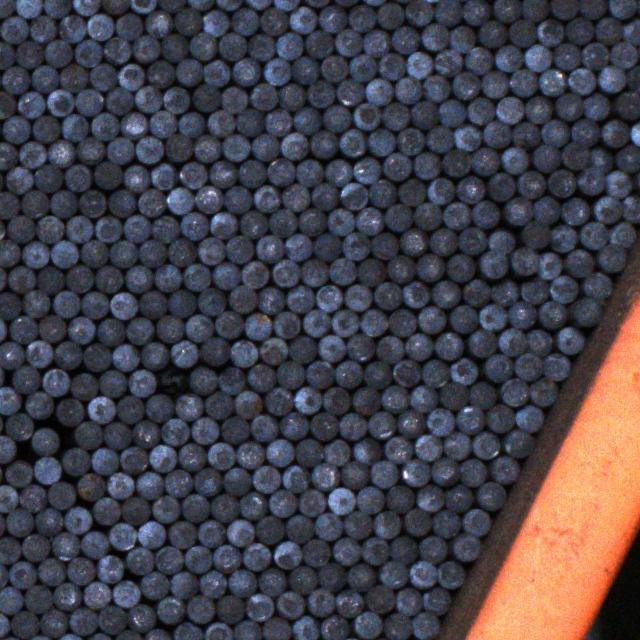tool: (569, 298, 602, 327), (199, 336, 228, 365), (504, 430, 534, 458), (366, 585, 395, 613), (487, 172, 515, 201), (597, 244, 626, 272), (439, 380, 468, 408), (431, 280, 460, 308), (101, 421, 130, 449), (479, 250, 508, 278), (128, 368, 156, 397), (560, 142, 589, 170), (378, 561, 408, 588), (134, 136, 162, 164), (256, 516, 284, 544), (361, 535, 389, 563), (23, 586, 51, 614), (549, 274, 577, 302), (342, 512, 370, 540), (501, 378, 529, 406), (126, 603, 154, 631), (276, 592, 304, 620), (280, 182, 308, 210), (433, 509, 461, 537), (412, 202, 440, 230), (248, 362, 276, 390), (289, 566, 317, 594), (509, 302, 537, 330), (212, 545, 240, 573), (448, 304, 476, 332), (486, 405, 514, 433), (346, 563, 374, 591), (514, 352, 542, 380), (478, 304, 506, 332), (477, 482, 505, 510), (54, 341, 82, 369), (134, 470, 162, 498), (445, 253, 473, 281), (83, 343, 111, 371), (87, 394, 115, 422), (323, 103, 351, 131), (422, 586, 450, 614), (216, 594, 244, 622), (160, 416, 188, 444), (116, 396, 144, 424), (166, 238, 194, 266), (238, 210, 266, 238), (284, 514, 312, 542), (432, 456, 460, 484), (380, 101, 408, 129), (384, 484, 412, 512), (272, 542, 300, 570), (22, 532, 50, 560), (196, 237, 224, 265), (209, 494, 237, 522), (122, 496, 150, 524), (592, 195, 620, 223), (48, 482, 76, 510), (264, 388, 292, 416), (306, 360, 334, 388), (138, 289, 166, 317), (38, 608, 66, 636), (8, 315, 36, 343), (7, 411, 35, 439), (468, 330, 496, 358), (176, 442, 204, 470), (221, 415, 249, 443), (189, 365, 217, 393), (146, 392, 174, 420), (13, 365, 41, 393), (498, 328, 526, 356), (150, 216, 178, 244), (63, 506, 91, 534), (602, 118, 630, 146), (521, 220, 549, 248), (31, 428, 59, 456), (529, 377, 557, 405), (483, 353, 511, 381), (512, 121, 540, 149), (352, 612, 381, 639), (456, 405, 483, 434), (489, 456, 518, 483), (278, 412, 307, 439), (504, 198, 533, 225), (98, 604, 125, 633), (324, 387, 351, 415), (334, 359, 361, 387), (314, 512, 341, 540), (141, 572, 169, 599), (382, 437, 410, 464), (9, 266, 36, 294), (228, 568, 255, 596), (412, 613, 440, 640), (457, 228, 485, 255), (251, 83, 278, 111), (91, 113, 118, 141), (305, 29, 332, 57), (258, 569, 286, 596), (242, 542, 269, 570), (435, 48, 462, 76), (472, 430, 499, 458), (167, 521, 195, 548), (463, 509, 491, 536), (38, 558, 65, 586), (276, 361, 303, 389), (362, 360, 389, 388), (556, 326, 584, 353), (196, 184, 223, 212), (374, 281, 401, 309), (232, 58, 259, 86), (183, 264, 210, 292), (581, 220, 608, 248), (238, 491, 265, 519), (427, 407, 454, 435), (148, 444, 175, 472), (112, 581, 140, 608), (50, 190, 77, 218), (184, 546, 212, 573), (0, 16, 27, 44), (409, 560, 436, 588), (5, 460, 32, 488), (452, 533, 480, 560), (22, 288, 49, 316), (568, 68, 596, 95), (472, 201, 499, 229), (335, 590, 362, 618), (64, 216, 92, 243), (163, 469, 190, 497), (382, 154, 409, 182), (541, 118, 569, 145), (471, 146, 498, 174), (30, 64, 57, 92), (296, 440, 323, 468), (368, 180, 396, 207), (208, 160, 236, 187), (266, 440, 293, 468), (340, 182, 368, 209), (319, 562, 346, 590), (224, 184, 251, 212), (392, 25, 419, 53), (235, 441, 263, 468), (360, 309, 388, 336), (449, 356, 476, 384), (279, 132, 306, 160), (236, 108, 263, 136), (564, 16, 591, 44), (306, 80, 333, 108), (15, 41, 42, 69), (422, 359, 450, 386), (75, 38, 102, 66), (246, 312, 273, 340), (102, 36, 129, 64), (240, 261, 267, 289), (79, 189, 106, 217), (78, 472, 105, 500), (560, 198, 588, 225), (226, 236, 254, 263), (230, 284, 257, 312), (185, 594, 212, 622), (317, 334, 344, 362), (310, 411, 337, 439), (264, 108, 291, 136), (230, 339, 258, 366), (414, 434, 441, 462), (346, 334, 373, 362), (456, 175, 484, 202), (391, 535, 418, 563), (468, 381, 495, 409), (564, 249, 592, 276), (231, 8, 258, 36), (155, 265, 182, 293), (192, 84, 220, 111), (197, 287, 224, 315), (188, 32, 216, 59), (223, 466, 250, 494), (260, 6, 287, 34), (310, 130, 337, 158), (370, 460, 398, 487), (119, 447, 147, 474), (73, 421, 101, 448), (597, 64, 624, 92), (444, 484, 471, 512), (206, 442, 234, 469), (191, 415, 218, 443), (182, 495, 209, 523), (298, 207, 326, 234), (52, 531, 79, 559), (155, 546, 182, 574), (66, 556, 93, 584), (6, 510, 33, 538), (319, 6, 347, 33), (438, 559, 465, 587), (594, 15, 621, 43), (388, 309, 415, 337), (173, 8, 200, 36), (582, 93, 610, 120), (66, 266, 93, 294), (537, 301, 564, 329), (91, 446, 118, 474), (57, 397, 84, 425), (193, 468, 220, 496), (399, 228, 426, 256), (541, 353, 569, 380), (62, 446, 89, 474), (204, 392, 232, 419), (8, 215, 36, 242), (361, 28, 388, 56), (173, 394, 201, 421), (277, 83, 304, 111), (458, 458, 485, 486), (216, 311, 244, 338), (386, 254, 413, 282), (354, 206, 381, 234), (549, 223, 576, 251), (19, 484, 46, 512), (313, 234, 340, 262), (170, 340, 197, 368), (98, 369, 125, 397), (234, 390, 261, 418), (112, 344, 140, 371), (186, 312, 213, 340), (108, 522, 136, 549), (410, 101, 437, 129), (246, 32, 274, 59), (398, 177, 426, 204), (80, 529, 107, 557), (350, 386, 378, 413), (9, 611, 36, 639), (140, 342, 167, 370), (442, 148, 470, 175), (168, 290, 195, 318), (578, 166, 605, 194), (614, 90, 640, 119), (497, 97, 524, 124), (310, 463, 337, 490), (508, 19, 535, 46), (375, 337, 402, 364), (120, 111, 147, 138), (131, 421, 158, 448), (253, 466, 280, 493), (152, 495, 179, 522), (321, 56, 348, 83), (285, 234, 312, 261), (268, 208, 295, 235), (256, 234, 283, 261), (464, 46, 491, 73), (479, 21, 506, 48), (218, 33, 245, 60), (222, 134, 249, 161), (429, 229, 456, 256), (31, 115, 58, 142), (245, 593, 272, 620), (509, 69, 536, 96), (76, 137, 103, 164), (501, 146, 528, 173), (206, 109, 233, 136), (95, 162, 122, 189), (415, 253, 442, 280), (19, 141, 46, 168), (45, 41, 72, 68), (517, 171, 544, 198), (89, 64, 116, 91), (404, 334, 431, 361), (396, 587, 423, 614), (332, 309, 359, 336), (227, 520, 254, 547), (383, 203, 410, 230), (263, 58, 290, 85), (341, 461, 368, 488), (383, 613, 410, 640), (581, 41, 608, 68), (443, 202, 470, 229), (111, 292, 138, 319), (301, 260, 328, 287), (348, 54, 375, 81), (47, 89, 74, 116), (133, 87, 160, 114), (435, 333, 462, 360), (34, 165, 61, 192), (275, 31, 302, 58), (423, 74, 450, 101), (178, 161, 205, 188), (209, 211, 236, 238), (409, 385, 436, 412), (5, 167, 32, 194), (197, 519, 224, 546), (138, 240, 165, 267), (160, 33, 187, 60), (417, 306, 444, 333), (548, 169, 575, 196), (162, 86, 189, 113), (419, 535, 446, 562), (111, 239, 138, 266), (156, 596, 183, 623), (609, 220, 636, 247), (428, 175, 455, 202), (423, 24, 450, 51), (461, 278, 488, 305), (70, 607, 97, 634), (131, 34, 158, 61), (267, 158, 294, 185), (412, 152, 439, 179), (340, 413, 367, 440), (59, 64, 86, 91), (9, 561, 36, 588), (94, 215, 121, 242), (287, 285, 314, 312), (156, 314, 183, 341), (1, 115, 28, 142), (260, 337, 287, 364), (33, 455, 60, 482), (27, 391, 54, 418), (402, 460, 429, 487), (34, 509, 61, 536), (511, 247, 538, 274), (213, 262, 240, 289), (611, 40, 638, 67), (249, 415, 276, 442), (72, 373, 99, 400), (126, 318, 153, 345), (347, 5, 374, 32), (356, 259, 383, 286), (95, 266, 122, 293), (97, 319, 124, 346), (169, 572, 197, 598), (42, 367, 68, 395), (328, 487, 354, 515), (311, 182, 337, 210), (330, 258, 356, 286), (308, 588, 334, 616), (174, 58, 202, 84), (62, 112, 88, 140), (368, 411, 394, 439), (328, 208, 354, 236), (53, 583, 79, 611), (534, 196, 560, 224), (26, 340, 52, 368), (396, 128, 424, 154), (290, 57, 316, 85), (194, 134, 220, 162), (93, 497, 119, 525), (452, 125, 480, 151), (96, 554, 122, 582), (282, 464, 308, 492), (396, 410, 422, 438), (38, 214, 64, 242), (381, 384, 407, 412), (64, 164, 90, 192), (325, 158, 351, 186), (272, 260, 298, 288), (22, 188, 48, 216), (204, 59, 230, 87), (534, 144, 560, 172), (405, 509, 431, 537), (556, 93, 582, 121), (356, 486, 382, 514), (84, 582, 110, 610), (29, 15, 55, 43), (524, 95, 550, 123), (489, 278, 517, 304), (126, 547, 152, 575), (468, 96, 494, 124), (125, 214, 151, 242), (449, 24, 475, 52), (606, 169, 632, 197), (217, 366, 243, 394), (583, 273, 611, 299), (488, 229, 516, 255), (17, 92, 44, 118), (77, 88, 103, 115), (182, 212, 208, 239), (334, 537, 360, 564), (376, 1, 402, 28), (270, 489, 296, 516), (104, 88, 131, 114), (166, 185, 192, 212), (296, 160, 322, 187), (40, 316, 66, 343), (202, 9, 228, 36), (110, 188, 136, 215), (452, 72, 478, 99), (302, 310, 328, 337), (52, 241, 78, 268), (302, 538, 328, 565), (335, 29, 361, 56), (364, 77, 390, 104), (294, 386, 320, 413), (23, 241, 49, 268), (58, 15, 84, 42), (524, 43, 550, 70), (515, 406, 542, 432), (55, 289, 81, 316), (368, 128, 394, 155), (352, 102, 378, 129), (343, 284, 370, 310), (48, 141, 74, 168), (496, 45, 522, 72), (402, 280, 428, 307), (537, 19, 563, 46), (394, 358, 420, 385), (299, 489, 325, 516), (254, 184, 280, 211), (116, 13, 143, 39), (82, 240, 108, 267), (480, 72, 507, 98), (374, 512, 401, 538), (342, 233, 368, 260), (570, 118, 597, 144), (371, 232, 397, 259), (377, 54, 404, 80), (137, 522, 164, 548), (87, 12, 113, 39), (166, 134, 192, 161), (406, 51, 432, 78), (238, 161, 264, 188), (148, 110, 174, 137), (288, 7, 314, 34), (416, 484, 442, 511), (199, 569, 225, 596), (148, 61, 174, 88), (336, 79, 362, 106), (290, 337, 316, 364), (552, 44, 579, 70), (483, 120, 510, 146), (138, 188, 164, 215), (126, 265, 152, 292), (105, 472, 132, 498), (1, 66, 27, 93), (70, 316, 96, 343), (272, 312, 299, 338), (352, 158, 378, 185), (425, 126, 451, 153), (39, 267, 65, 294), (524, 328, 550, 355), (615, 145, 640, 173), (321, 615, 349, 640), (444, 432, 469, 460), (352, 440, 380, 465), (83, 292, 109, 318), (106, 137, 132, 163), (314, 284, 340, 310), (251, 134, 277, 160), (438, 100, 464, 126), (294, 108, 320, 134), (118, 64, 144, 90), (340, 130, 366, 156), (222, 86, 248, 112), (540, 69, 566, 95), (259, 288, 285, 314), (325, 439, 351, 465), (176, 112, 202, 138), (146, 9, 171, 36), (394, 76, 419, 103), (151, 163, 176, 190), (292, 615, 319, 640), (124, 164, 149, 191), (460, 0, 488, 24), (520, 278, 548, 302), (538, 252, 562, 280), (406, 0, 432, 25), (262, 617, 290, 640), (435, 0, 461, 24), (589, 148, 613, 174), (0, 586, 22, 614), (0, 340, 22, 368), (0, 386, 22, 414), (494, 0, 521, 22), (233, 620, 261, 640), (521, 0, 547, 21), (0, 291, 20, 318), (607, 0, 637, 18), (0, 239, 20, 266), (0, 535, 19, 562), (621, 194, 640, 221), (623, 16, 640, 46), (203, 622, 231, 640), (0, 190, 18, 217), (549, 0, 576, 18), (579, 0, 606, 18), (0, 484, 17, 512), (172, 623, 200, 640), (43, 0, 69, 17), (0, 142, 16, 169), (16, 0, 41, 17), (0, 434, 15, 462), (72, 0, 100, 15), (626, 66, 640, 93), (0, 41, 14, 68), (0, 91, 14, 117), (158, 0, 186, 12), (143, 628, 171, 640), (131, 0, 156, 13), (102, 0, 127, 13), (112, 629, 139, 640), (214, 0, 241, 10), (243, 0, 272, 9), (186, 0, 212, 10), (630, 119, 640, 145), (0, 0, 15, 17), (274, 0, 299, 10), (0, 614, 9, 639), (55, 633, 82, 640), (86, 633, 113, 640), (301, 0, 331, 6), (633, 169, 640, 194), (0, 560, 6, 589), (0, 266, 6, 293), (0, 218, 6, 243), (0, 316, 5, 344), (360, 0, 388, 5), (0, 511, 5, 539), (332, 0, 359, 5), (26, 635, 52, 640)
tool_b: (158, 366, 189, 394)
